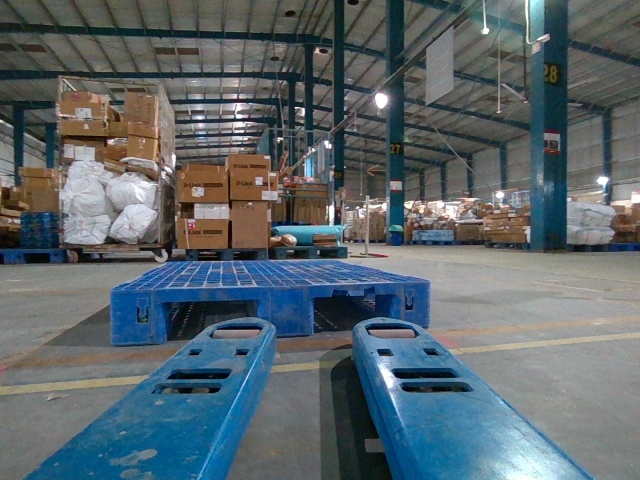block: (109, 288, 168, 345), (256, 284, 314, 334), (386, 285, 428, 329)
front: (110, 282, 431, 343)
hole pallet: (167, 298, 256, 348), (313, 296, 392, 332)
